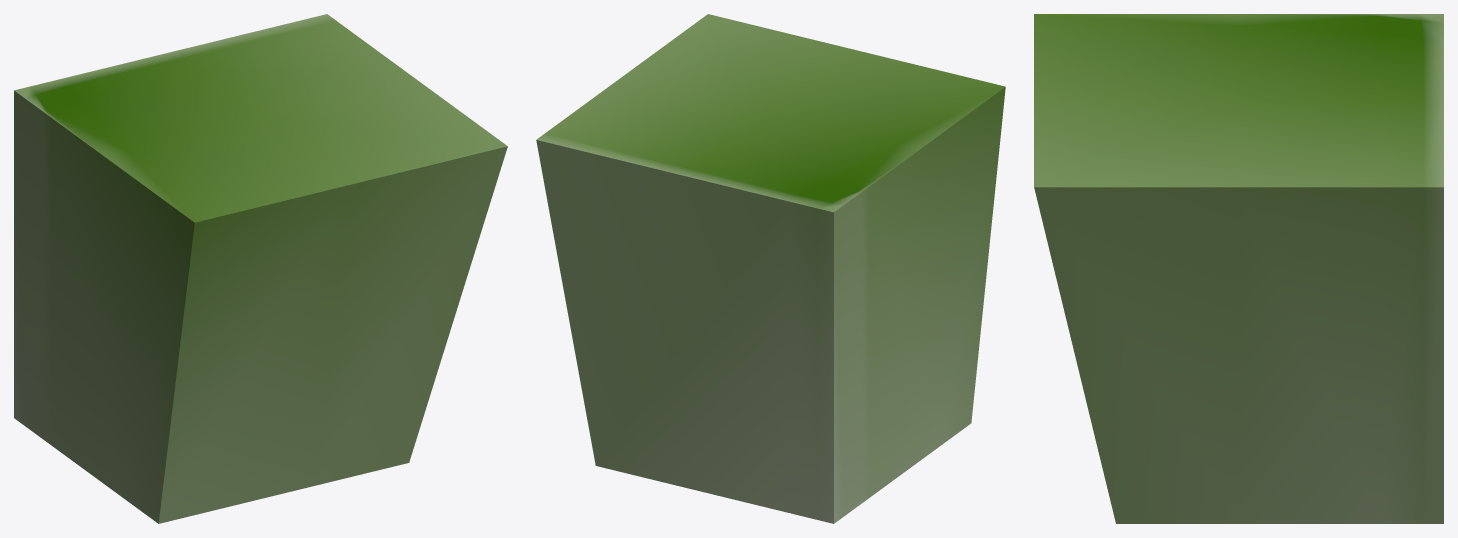
3 views of the same model, side by side, from view 1: azimuth 30°, elevation 25°; view 2: azimuth 150°, elevation 25°; view 3: azimuth 270°, elevation 25° (orthographic). The views are drawn at different scales.
Parts seen in each view (by area): view 1: 3, 1, 4, 2; view 2: 4, 2, 3, 1; view 3: 2, 1, 3, 4.
Boxes of the visible parts, left/top/right/bottom form: 3: left=104, top=118, right=351, bottom=523; 1: left=261, top=80, right=507, bottom=485; 4: left=14, top=52, right=260, bottom=483; 2: left=171, top=14, right=417, bottom=118; 4: left=685, top=113, right=919, bottom=523; 2: left=536, top=77, right=770, bottom=487; 3: left=771, top=50, right=1005, bottom=460; 1: left=622, top=14, right=856, bottom=112; 2: left=1239, top=100, right=1443, bottom=523; 1: left=1034, top=100, right=1238, bottom=523; 3: left=1034, top=14, right=1238, bottom=100; 4: left=1239, top=14, right=1443, bottom=100.
Size of the model in its own units: 200 by 200 by 200.
